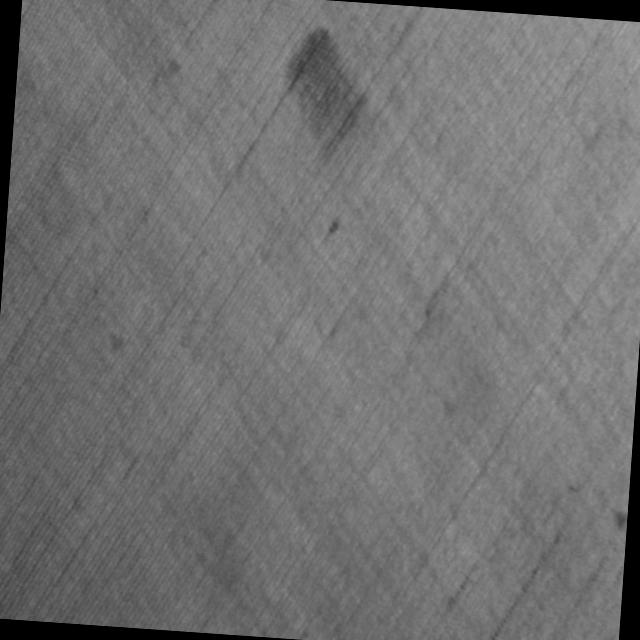oil spot: (274, 18, 374, 164)
